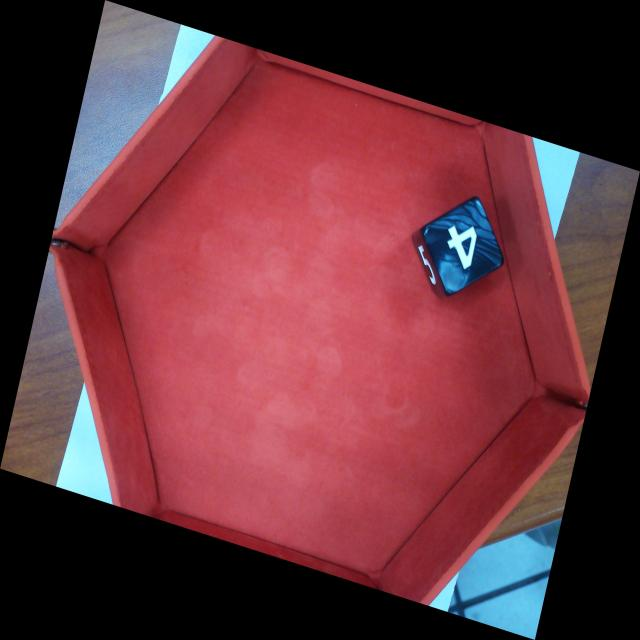dice: (423, 199, 505, 295)
